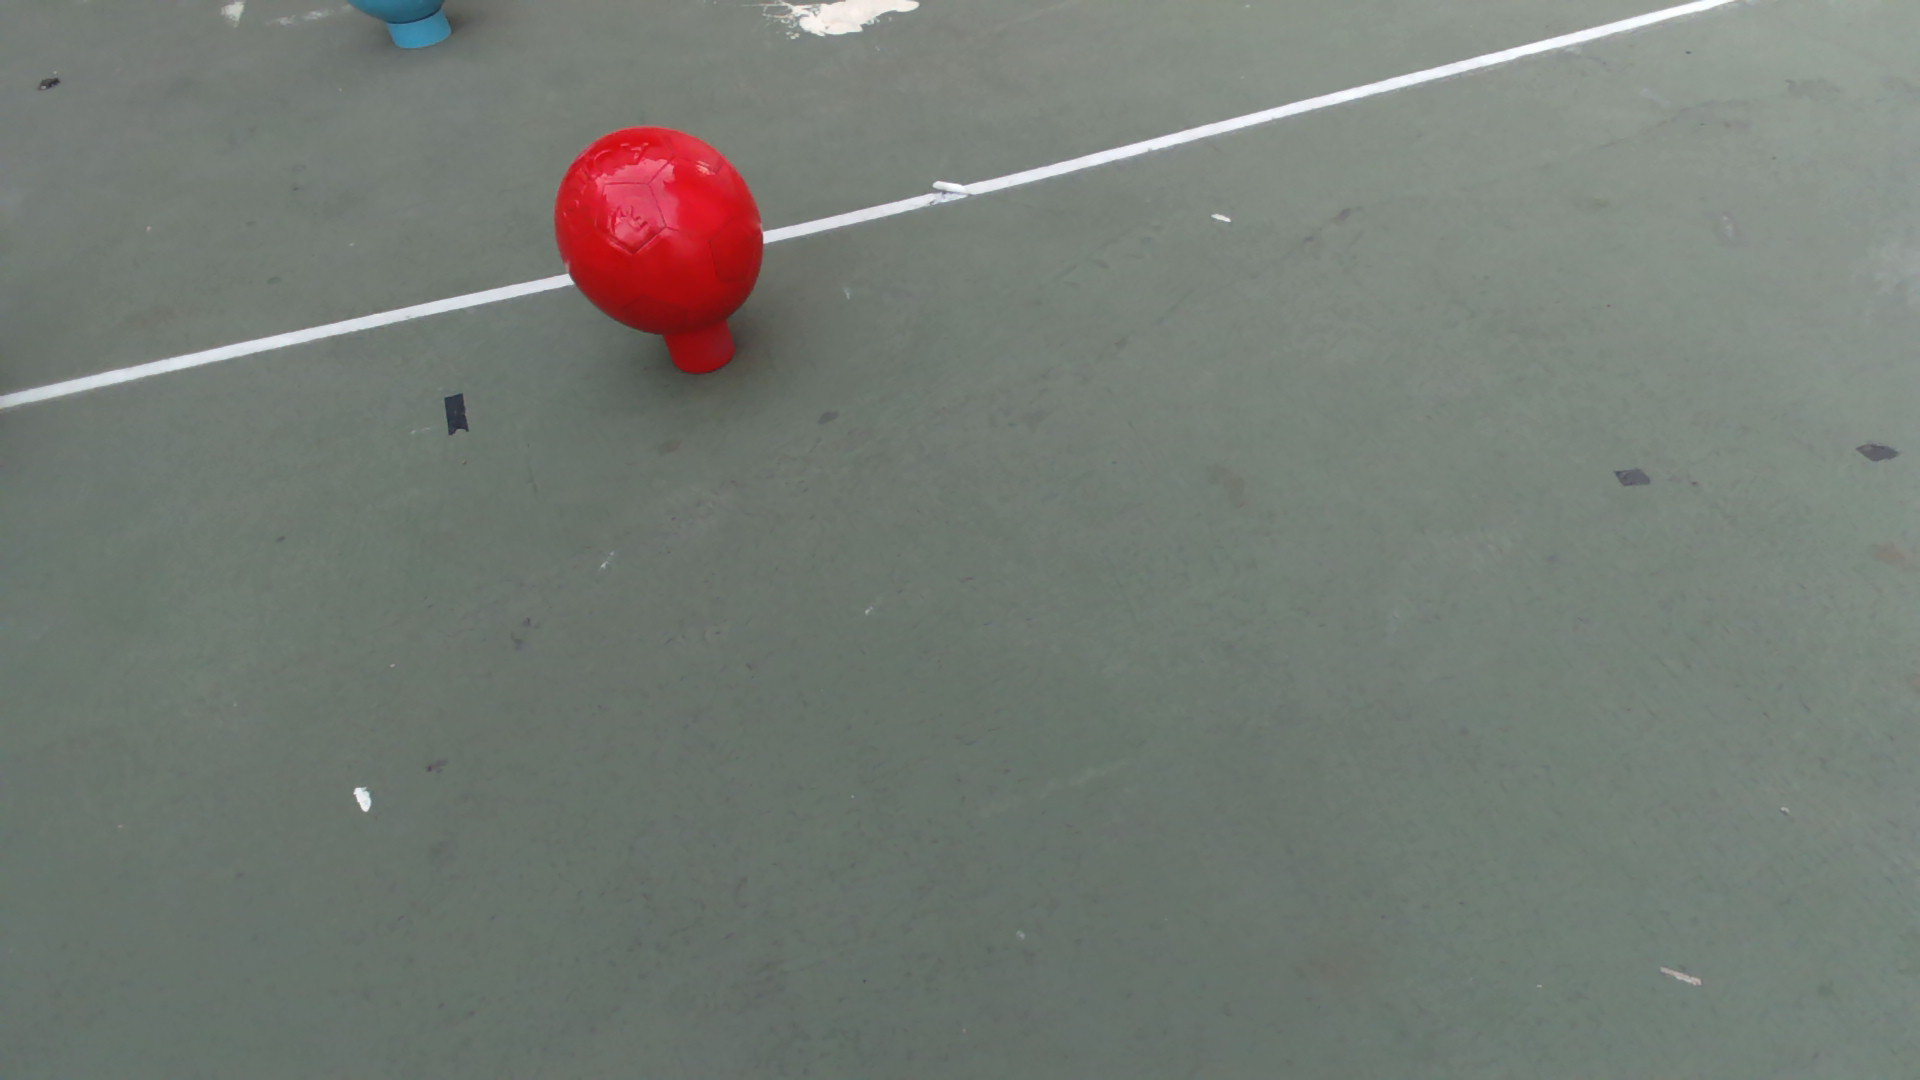Red ball: (553, 124, 765, 338)
